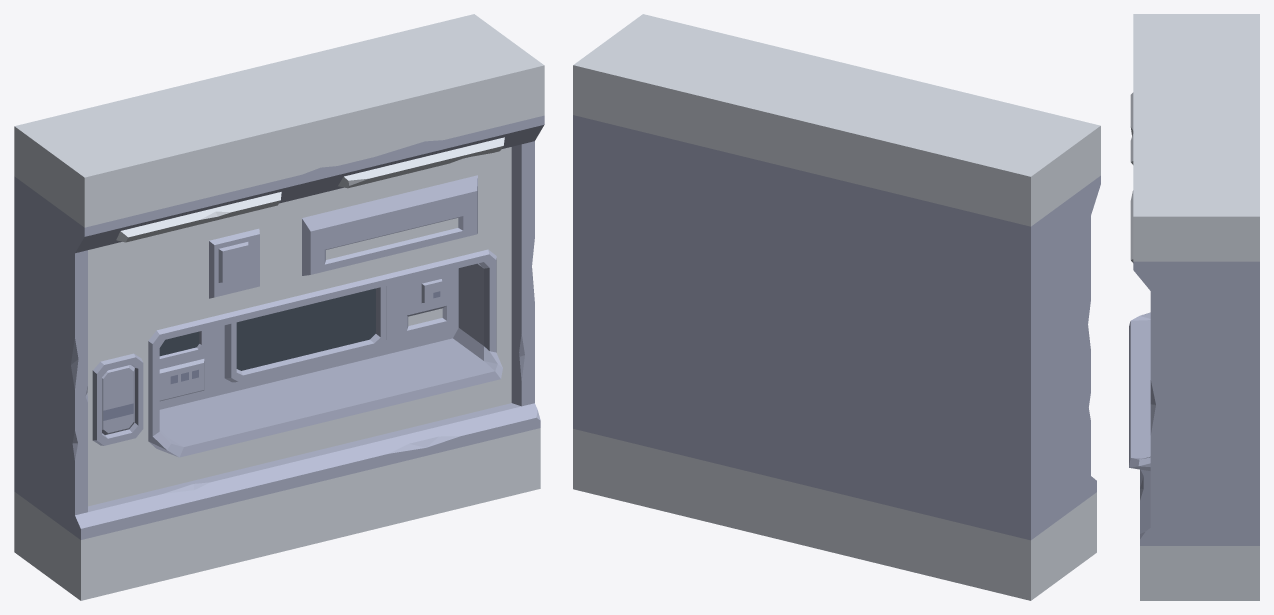
The model's file is WallDesk.FBX.
3 renders of one model, left to right at view 1: azimuth 30°, elevation 25°; view 2: azimuth 150°, elevation 25°; view 3: azimuth 270°, elevation 25°, orthographic. The views are drawn at different scales.
Parts seen in each view (by area): view 1: DeskWall; view 2: DeskWall; view 3: DeskWall.
Boxes of the visible parts, <box> form: DeskWall: <box>14,14,544,600</box>; DeskWall: <box>573,14,1100,600</box>; DeskWall: <box>1129,14,1259,600</box>.
Bounding box in the file's own units: 39.5 × 34.97 × 10.78.
